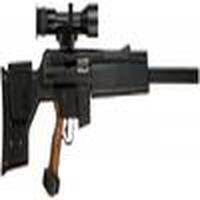gun: (1, 5, 200, 198)
